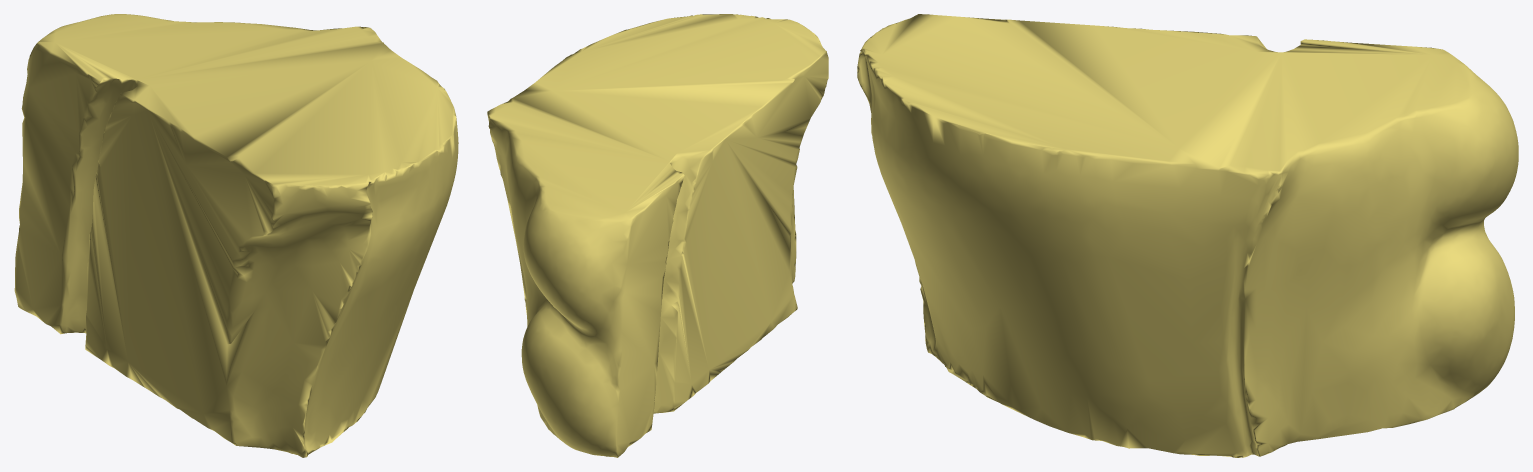
The model's file is midbrain-l.glb.
The picture shows the model from 3 angles, left to right: view 1: azimuth 30°, elevation 25°; view 2: azimuth 150°, elevation 25°; view 3: azimuth 270°, elevation 25°; orthographic projection. The views are drawn at different scales.
Visible parts, largest first — view 1: Midbrain.l; view 2: Midbrain.l; view 3: Midbrain.l.
Boxes of the visible parts, box(x1,y1,x2,y2) form: Midbrain.l: box(14, 14, 458, 457); Midbrain.l: box(487, 14, 828, 457); Midbrain.l: box(857, 14, 1518, 457).
Bounding box in the file's own units: 0.0143 × 0.0165 × 0.0285.
